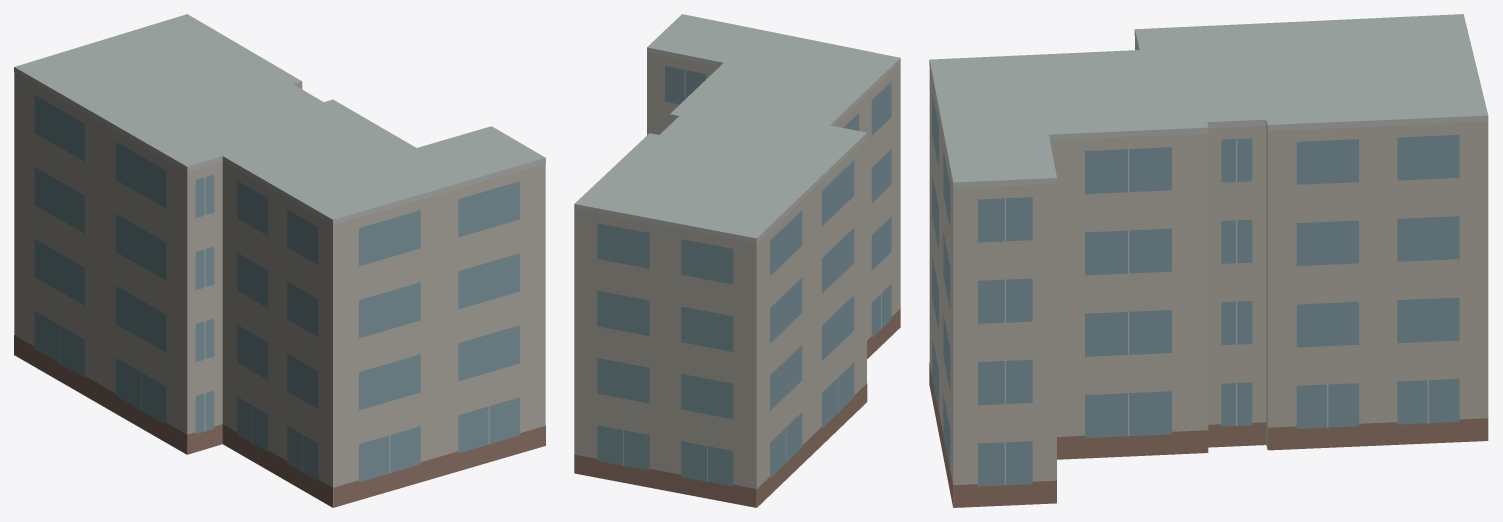
File: survey-upis-32659577.glb
The picture shows the model from 3 angles, left to right: view 1: azimuth 30°, elevation 25°; view 2: azimuth 150°, elevation 25°; view 3: azimuth 270°, elevation 25°; orthographic projection. The views are drawn at different scales.
Parts seen in each view (by area): view 1: survey-upis-32659577.tmp; view 2: survey-upis-32659577.tmp; view 3: survey-upis-32659577.tmp.
Boxes of the visible parts, bbox=[...] form: survey-upis-32659577.tmp: bbox=[14, 14, 545, 507]; survey-upis-32659577.tmp: bbox=[574, 14, 900, 507]; survey-upis-32659577.tmp: bbox=[929, 14, 1488, 507].
Bounding box in the file's own units: 14.42 × 12.97 × 20.2.
